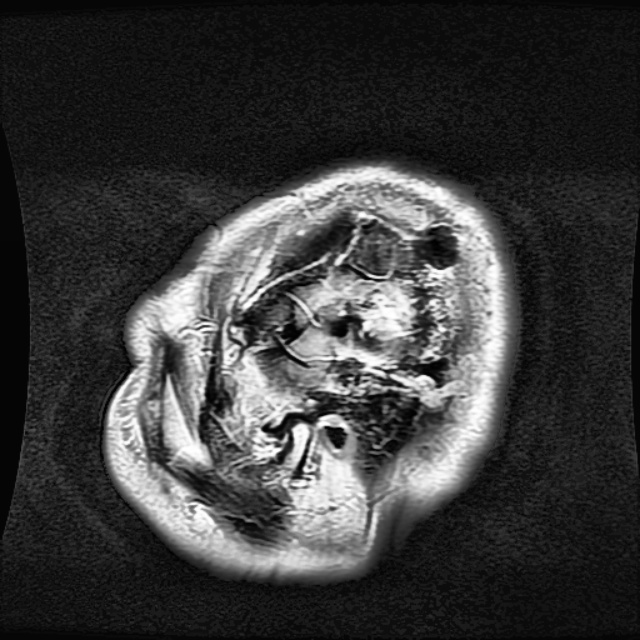Meningioma: (294, 272, 422, 339)
